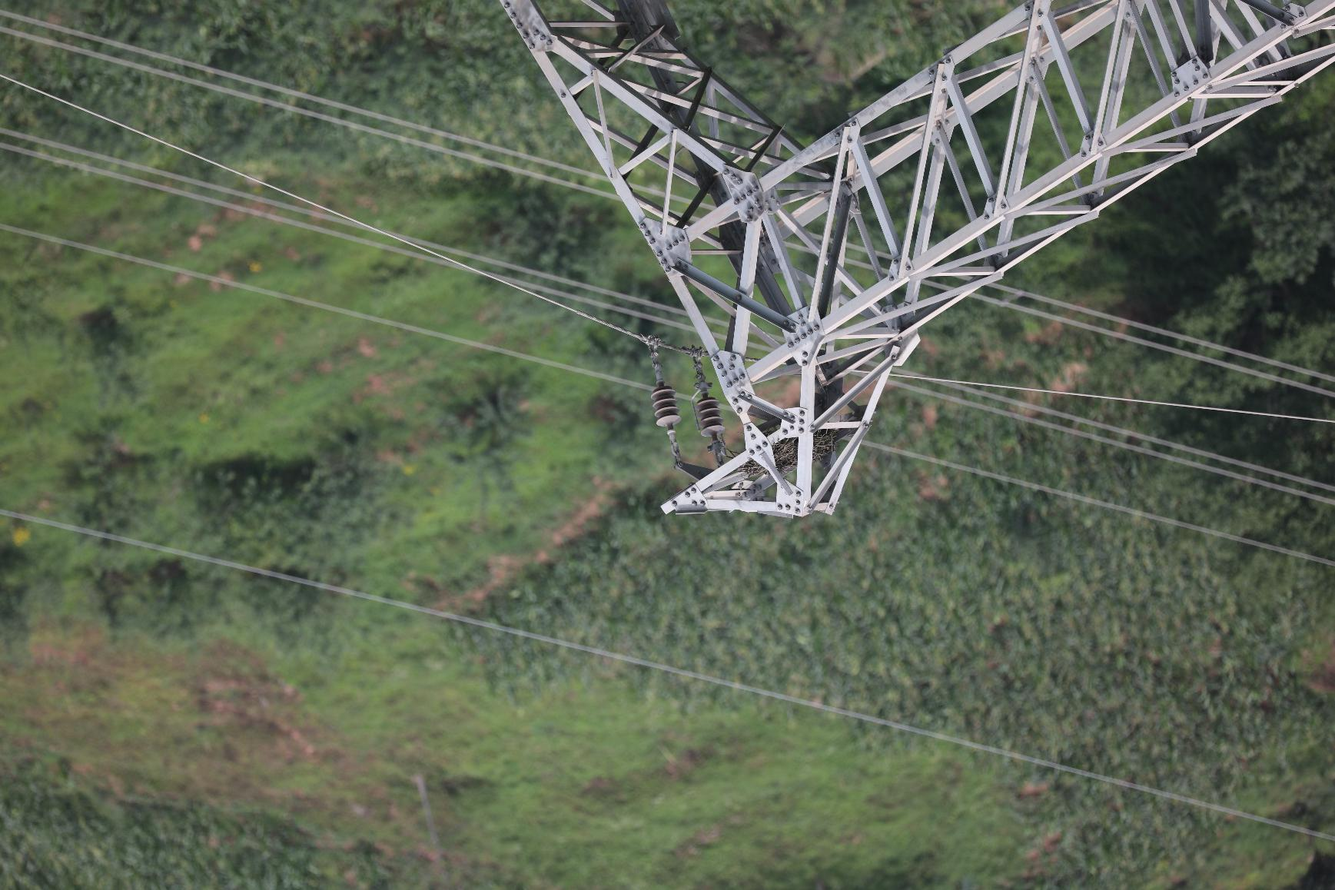nest: (771, 428, 837, 476)
